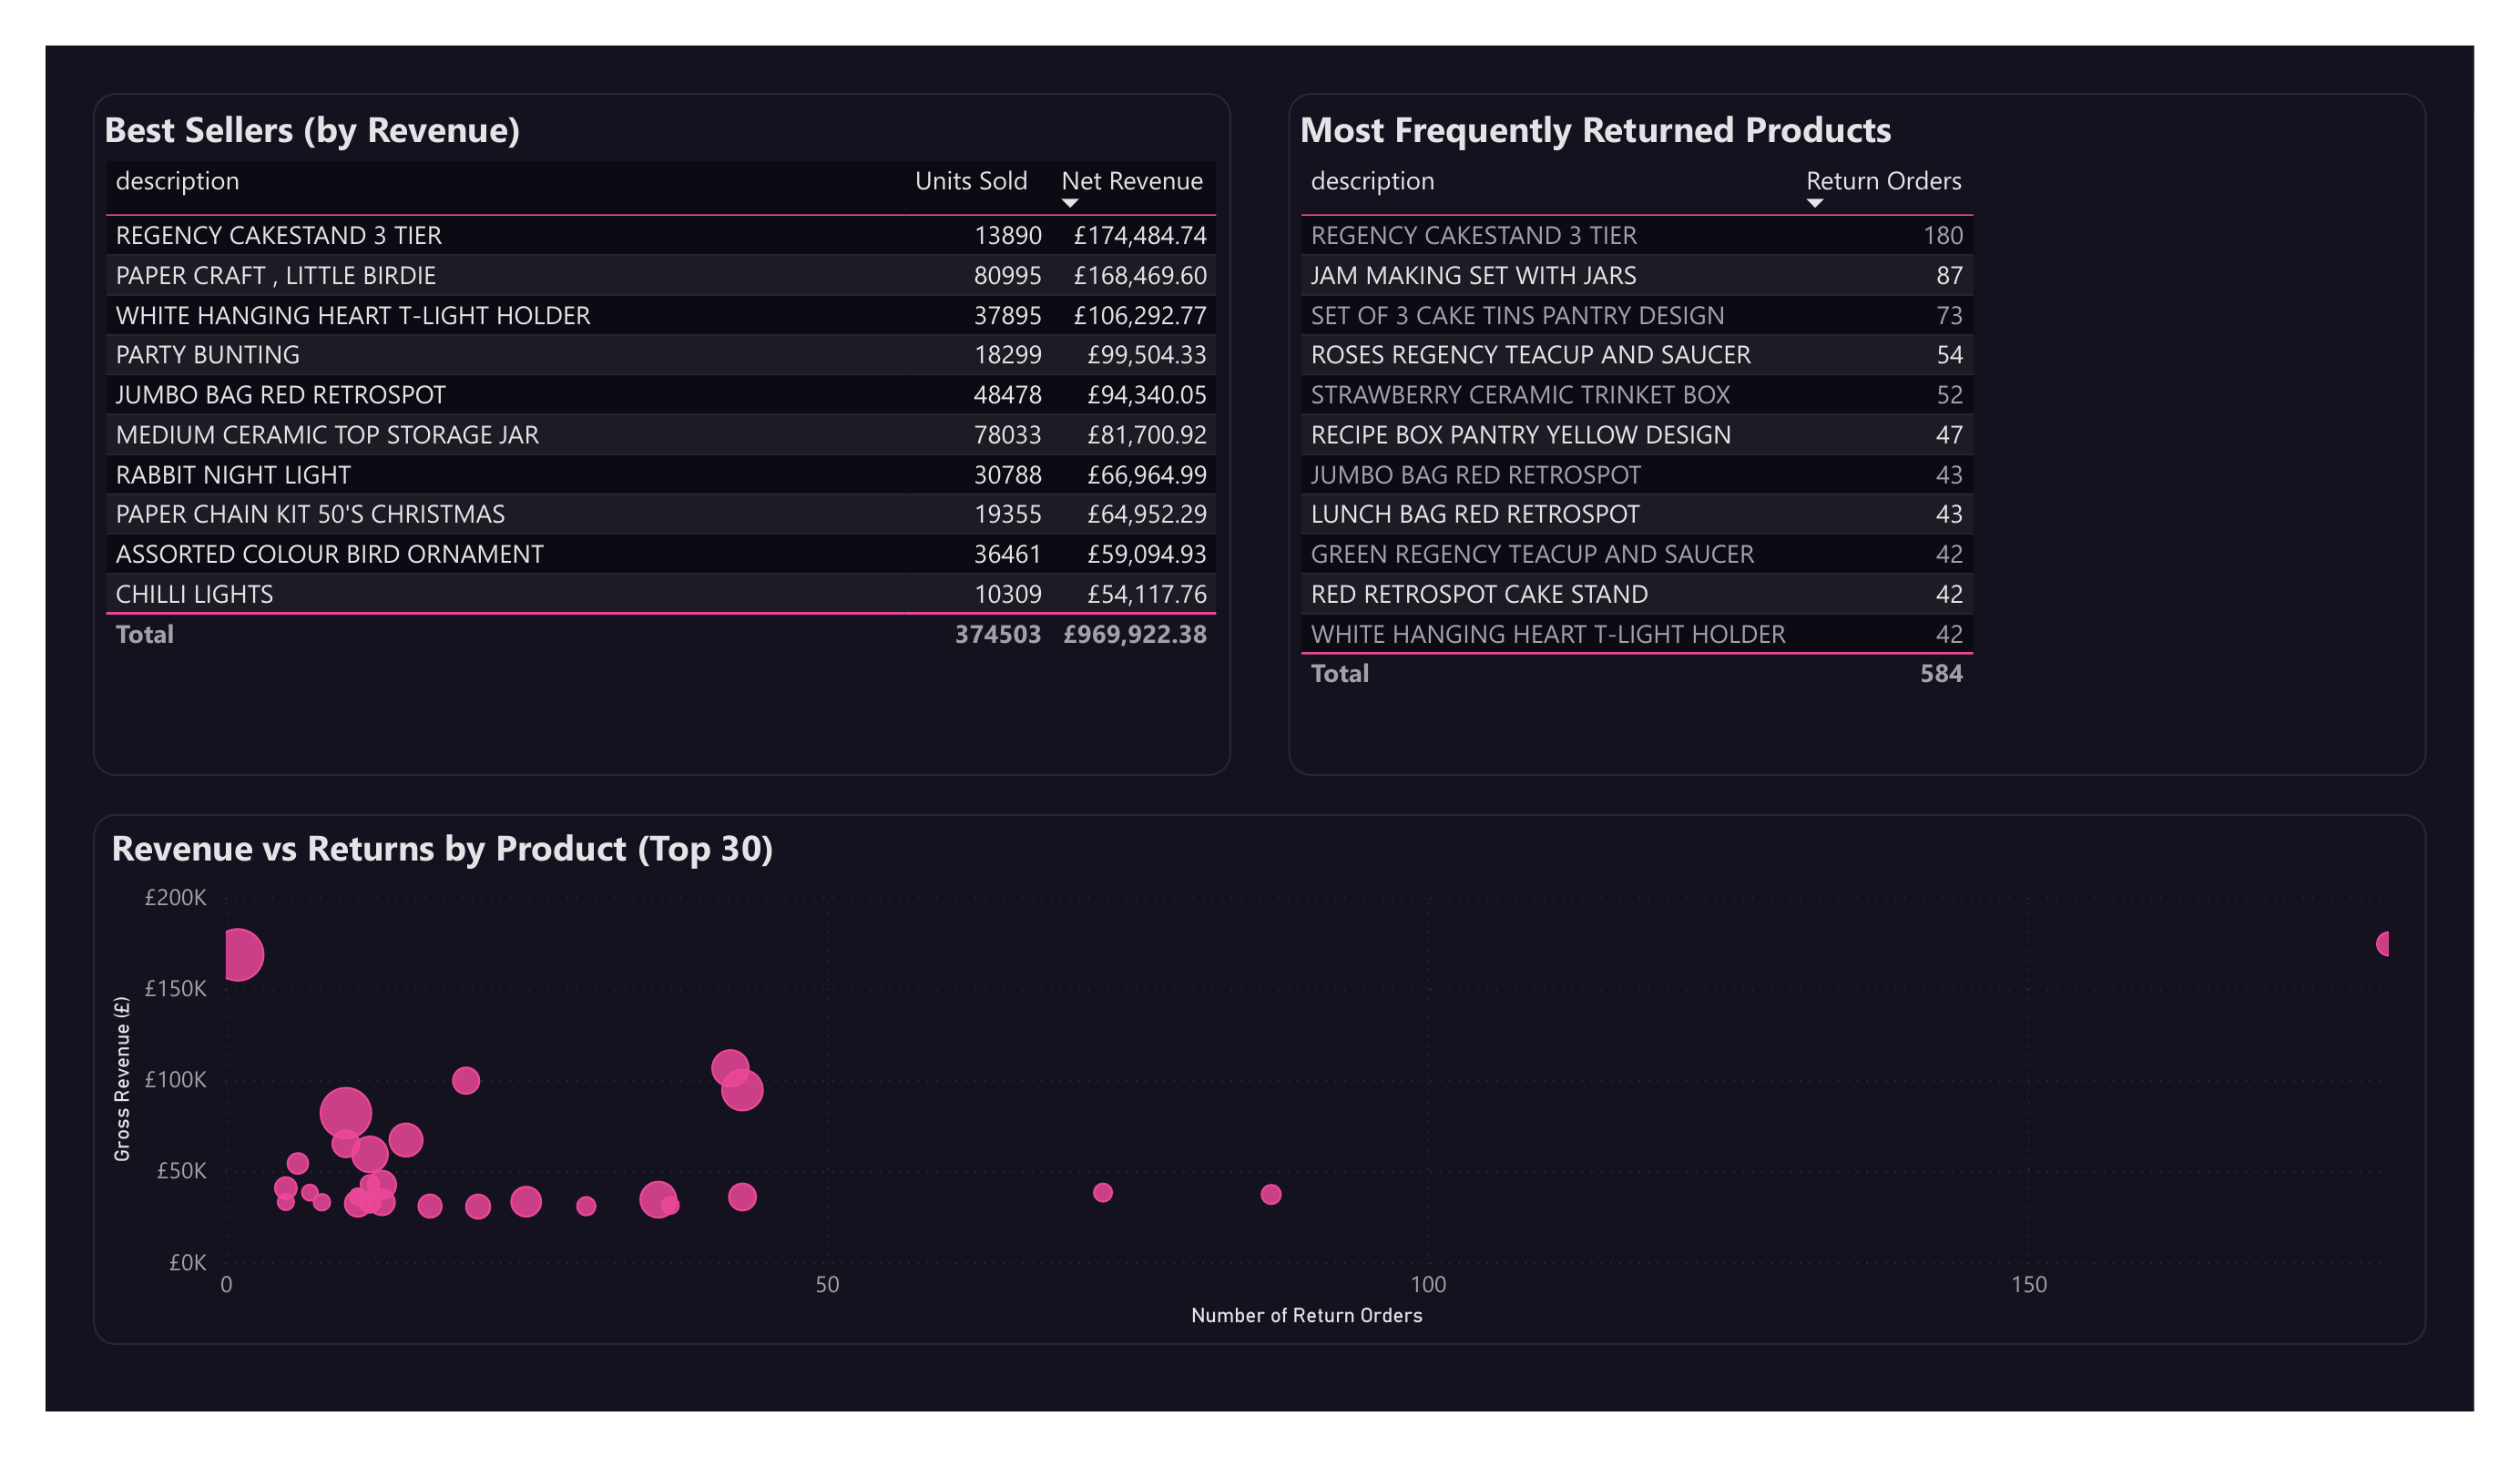

The dashboard page shown, as its layout file describes it:
{"tool":"powerbi","page":{"name":"Product Performance","canvas":[1280,720],"ordinal":2},"visuals":[{"type":"tableEx","title":"Best Sellers (by Revenue)","fields":{"Values":["online_retail_clean.description","_Measures.Units Sold","_Measures.Net Revenue"]},"box":[25,25,600,360],"z":0},{"type":"tableEx","title":"Most Frequently Returned Products","fields":{"Values":["online_retail_clean.description","_Measures.Return Orders"]},"box":[655,25,600,360],"z":1000},{"type":"scatterChart","title":"Revenue vs Returns by Product (Top 30)","fields":{"X":["_Measures.Return Orders"],"Y":["_Measures.Gross Revenue"],"Size":["_Measures.Units Sold"],"Category":["online_retail_clean.description"]},"box":[25,405,1230,280],"z":2000}]}

Visuals, with their boxes on the page's 1280x720 design canvas (x1, y1, x2, y2). These are canvas units, not pixel positions in the 2520x1457 screenshot, which may show the page scaled, cropped or inside an application window:
"Best Sellers (by Revenue)" tableEx: {"x1": 25, "y1": 25, "x2": 625, "y2": 385}
"Most Frequently Returned Products" tableEx: {"x1": 655, "y1": 25, "x2": 1255, "y2": 385}
"Revenue vs Returns by Product (Top 30)" scatterChart: {"x1": 25, "y1": 405, "x2": 1255, "y2": 685}
